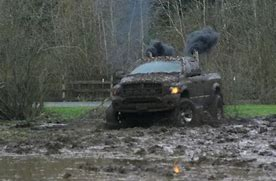smoke: (181, 25, 219, 56), (139, 38, 174, 58)
